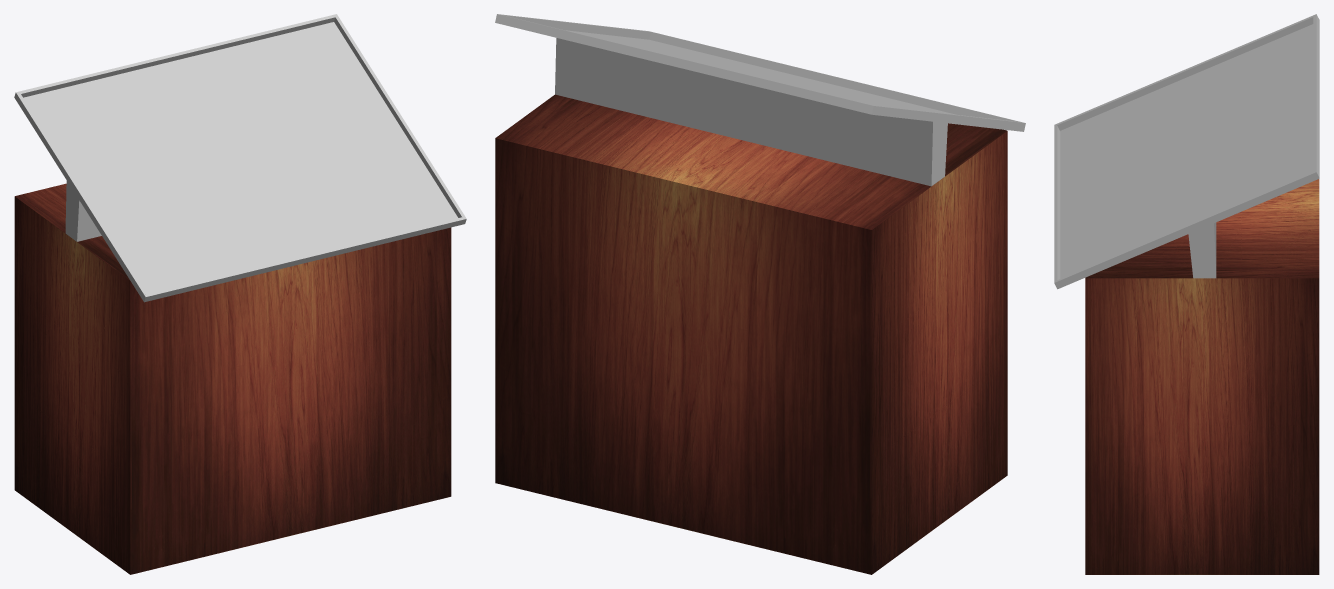
File: pedestal.fbx
The picture shows the model from 3 angles, left to right: view 1: azimuth 30°, elevation 25°; view 2: azimuth 150°, elevation 25°; view 3: azimuth 270°, elevation 25°; orthographic projection. The views are drawn at different scales.
Visible parts, largest first — view 1: Object003, Paper, Object001, Object002; view 2: Object003, Object002, Object001, Paper; view 3: Object003, Paper, Object001, Object002.
Boxes of the visible parts, x1=… form: Object003: x1=14, y1=183, x2=451, y2=574; Paper: x1=23, y1=22, x2=457, y2=293; Object001: x1=14, y1=14, x2=466, y2=302; Object002: x1=65, y1=180, x2=101, y2=241; Object003: x1=495, y1=94, x2=1007, y2=574; Object002: x1=555, y1=38, x2=947, y2=186; Object001: x1=495, y1=14, x2=1025, y2=131; Paper: x1=566, y1=30, x2=955, y2=114; Object003: x1=1085, y1=179, x2=1319, y2=574; Paper: x1=1060, y1=24, x2=1313, y2=278; Object001: x1=1054, y1=14, x2=1319, y2=289; Object002: x1=1188, y1=222, x2=1216, y2=278.
Bounding box in the file's own units: 240 × 285 × 170.
